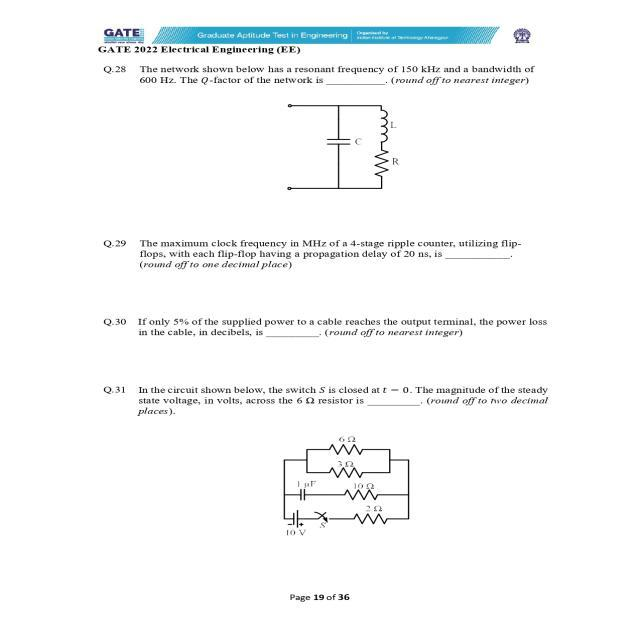Question_Answer_Block: (86, 62, 574, 238), (88, 384, 572, 552), (86, 238, 574, 316), (86, 316, 573, 378)
Question_Block: (89, 64, 573, 234), (86, 383, 572, 551), (87, 237, 573, 314), (87, 318, 573, 377)
Question_Paper_Area: (86, 60, 574, 552)
